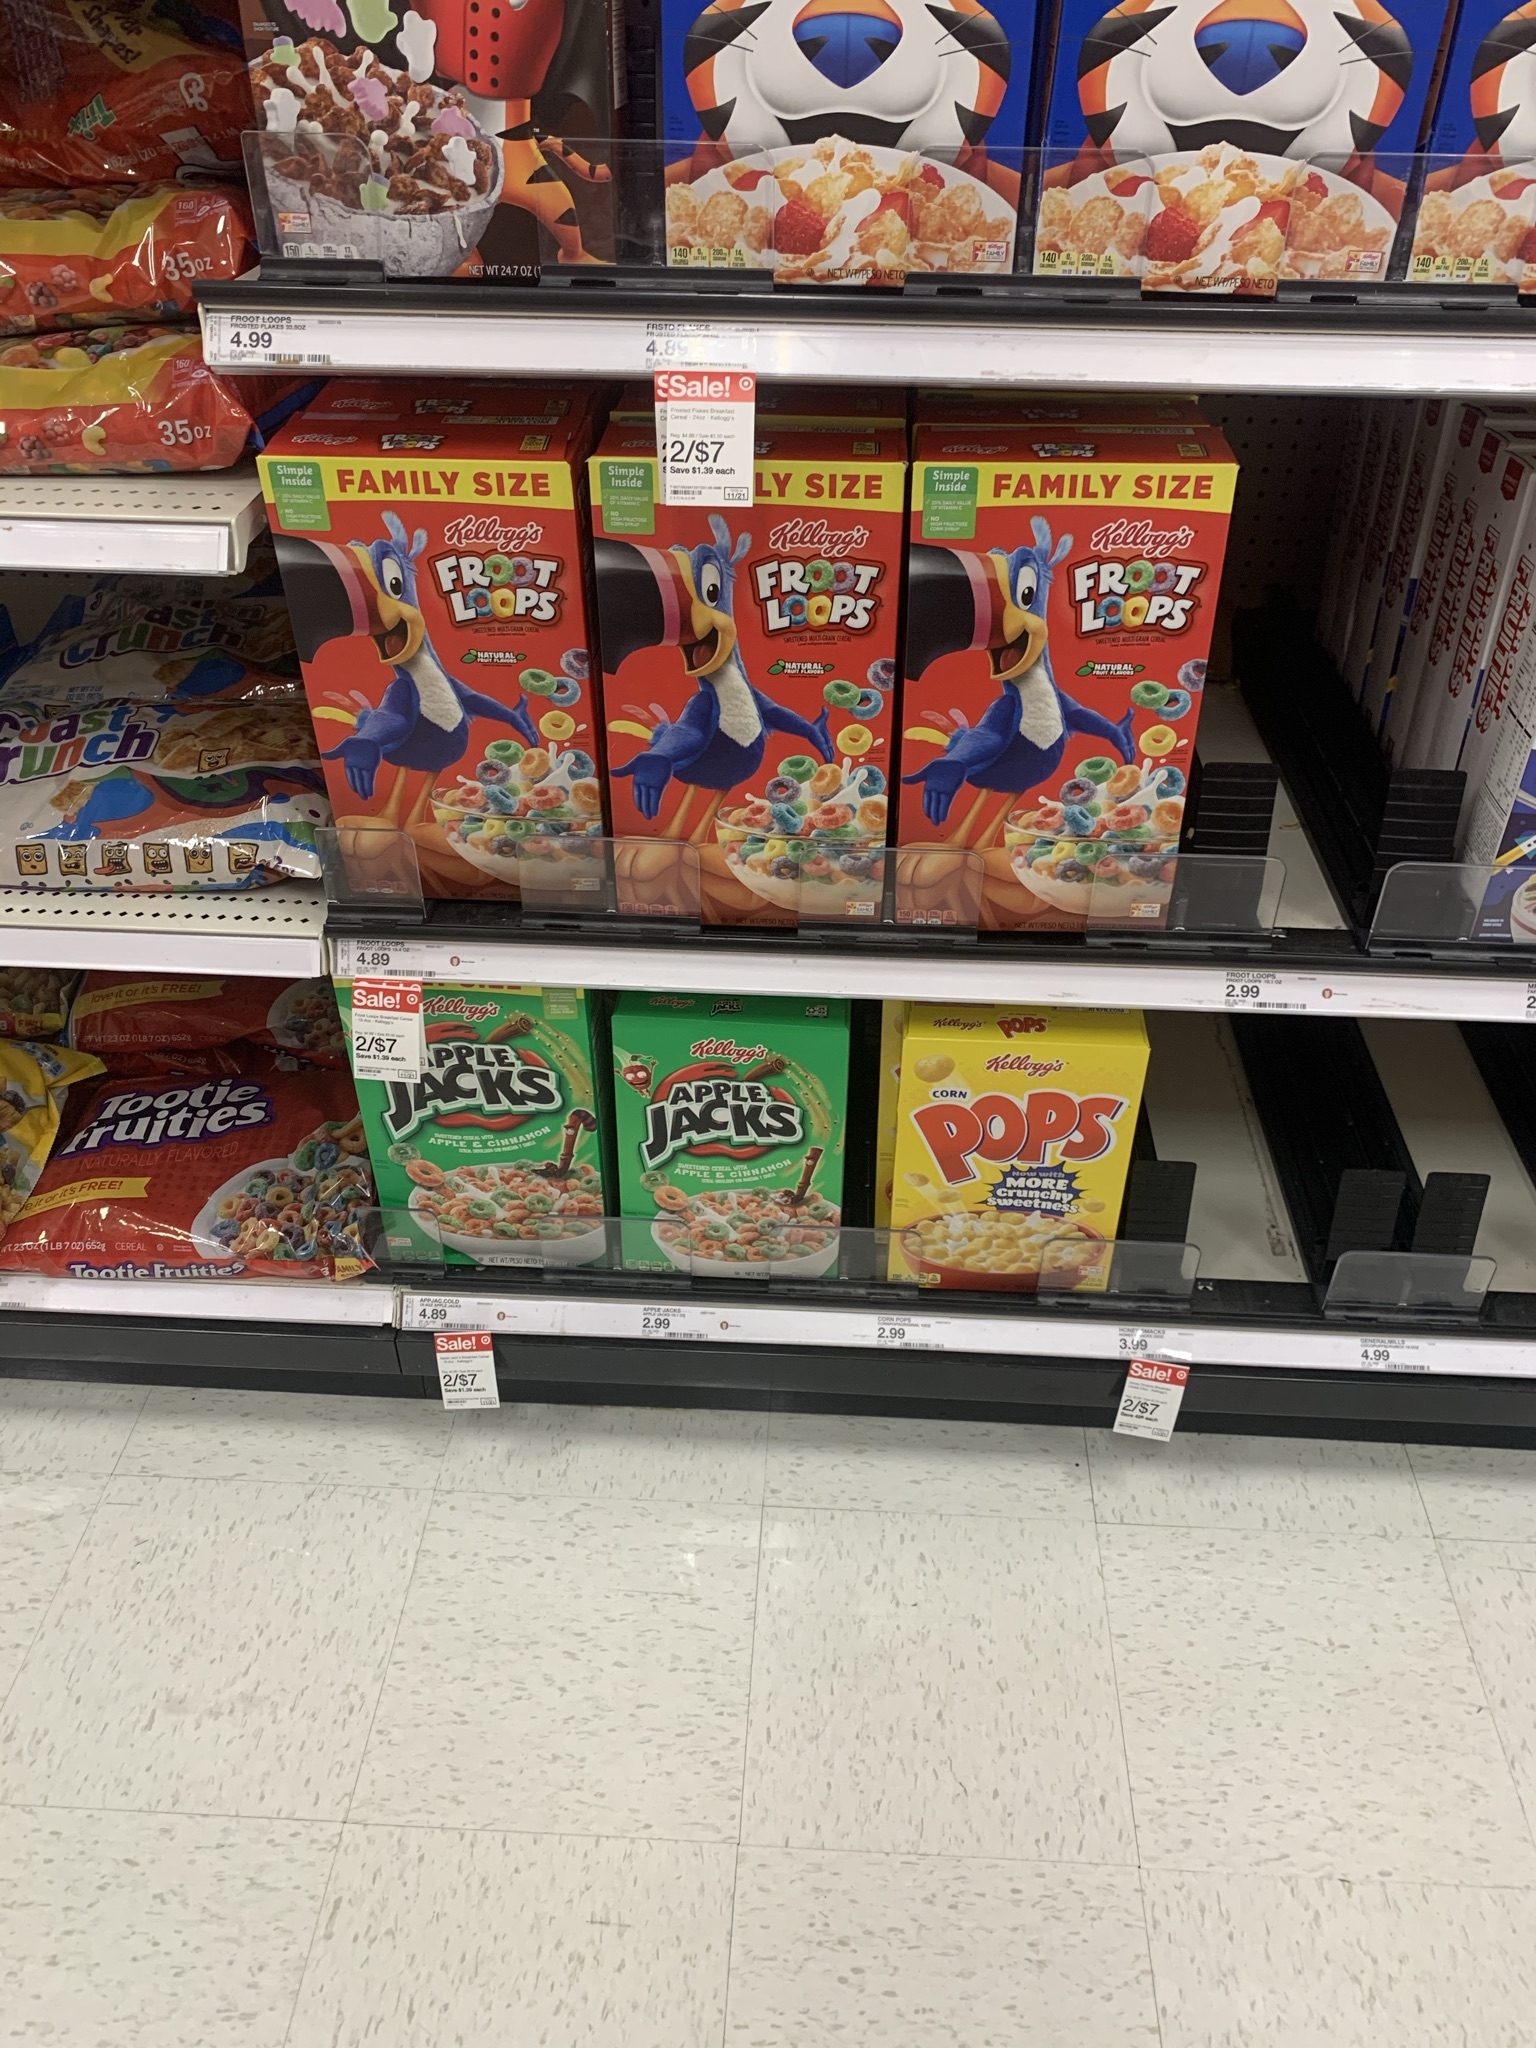Cereal apple jacks: (349, 998, 616, 1264), (616, 1021, 833, 1297)
Cereal froot loops: (269, 476, 599, 892), (620, 466, 889, 914), (925, 474, 1183, 924)
Cereal pops: (921, 1035, 1108, 1305)
